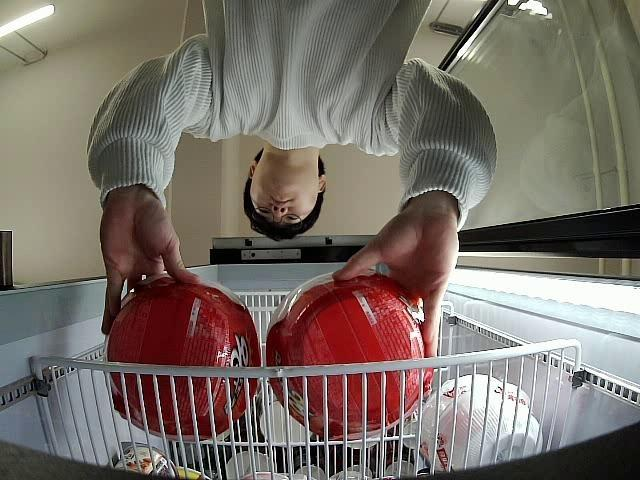10_wangTtukkeong: (262, 270, 428, 440), (100, 278, 262, 442)
